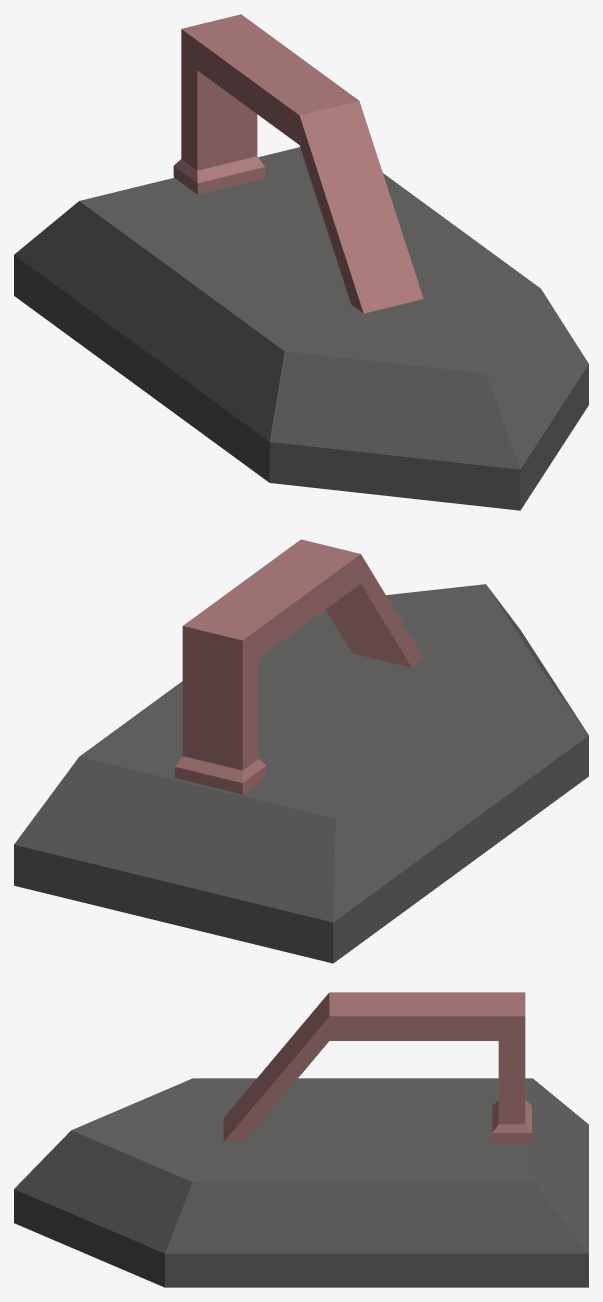
Rendered from iron.fbx.
The picture shows the model from 3 angles, top to bottom: view 1: azimuth 30°, elevation 25°; view 2: azimuth 150°, elevation 25°; view 3: azimuth 270°, elevation 25°; orthographic projection. The views are drawn at different scales.
Parts seen in each view (by area): view 1: iron; view 2: iron; view 3: iron.
Boxes of the visible parts, x1,y1,x2,y2 form: iron: (14,14,588,510); iron: (14,539,588,963); iron: (14,992,588,1287).
Bounding box in the file's own units: 79.49 × 62.68 × 150.
